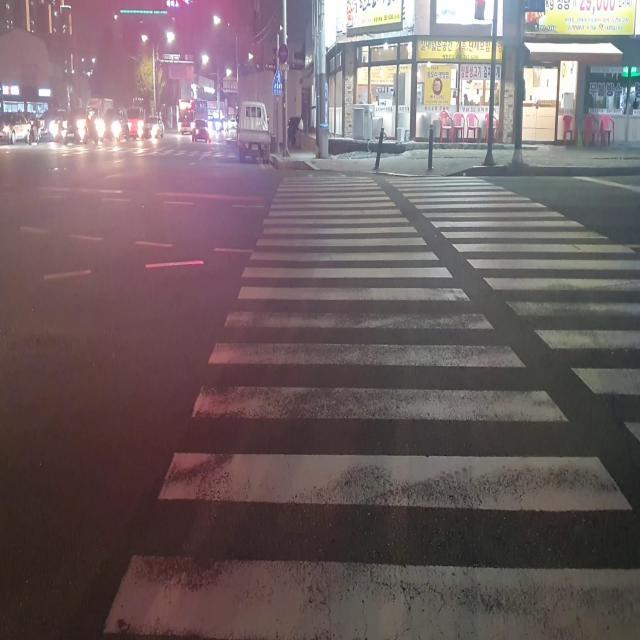crosswalk: (100, 170, 638, 638), (9, 141, 235, 159)
